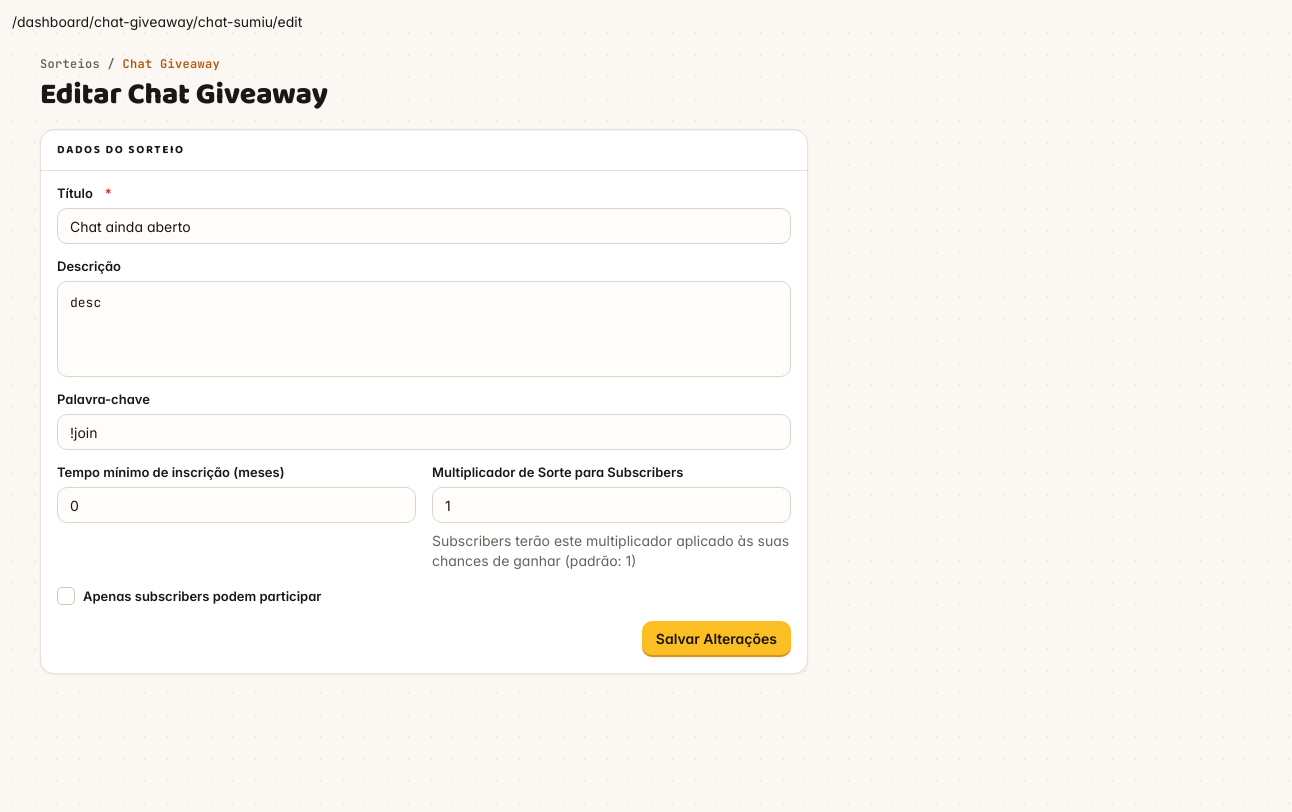
Test: update de sorteio já excluído › o chat avisa e volta para a lista, sem toast de sucesso
Check: the field showing "Chat ainda aberto" below "Título" is shown, box [57,208,791,244]
Click the button "Salvar Alterações": click(716, 640) [642,622,791,658]
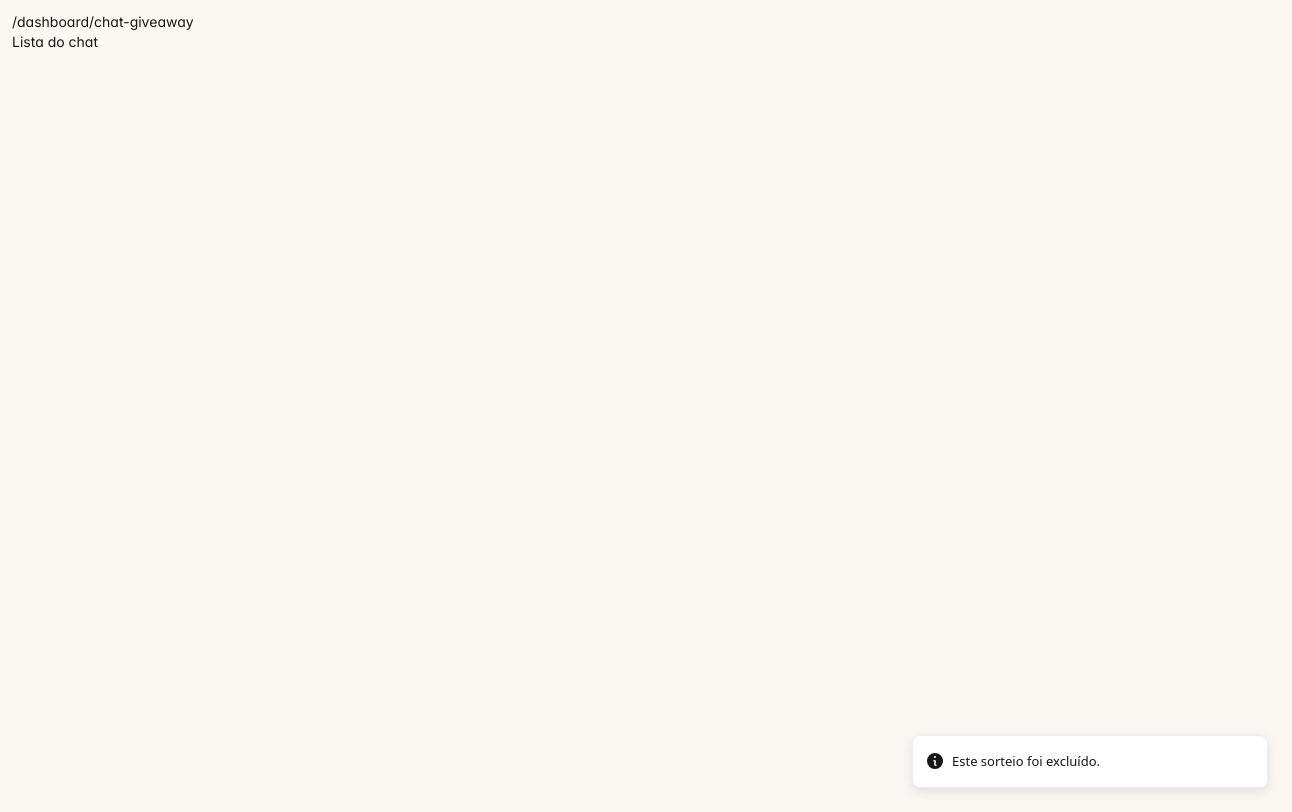
Check: the text with test id "location" reads "/dashboard/chat-giveaway", box [12,13,194,30]
Check: the text "Este sorteio foi excluído." is shown, box [952,752,1100,771]
